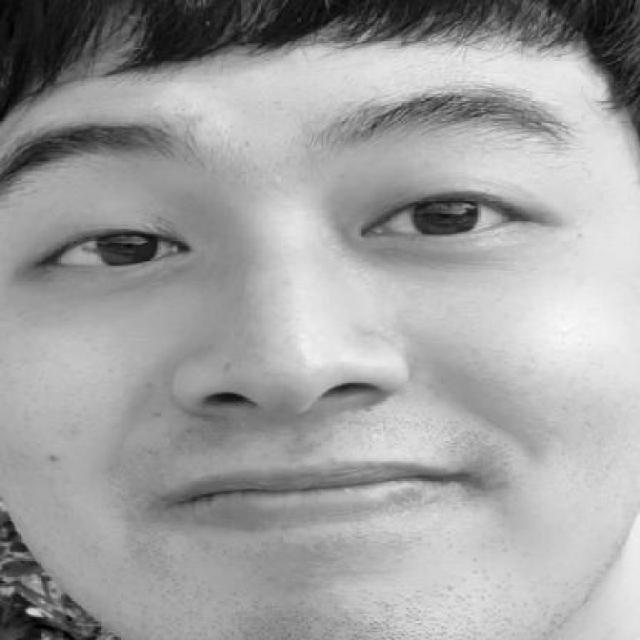happy: (18, 72, 599, 565)
